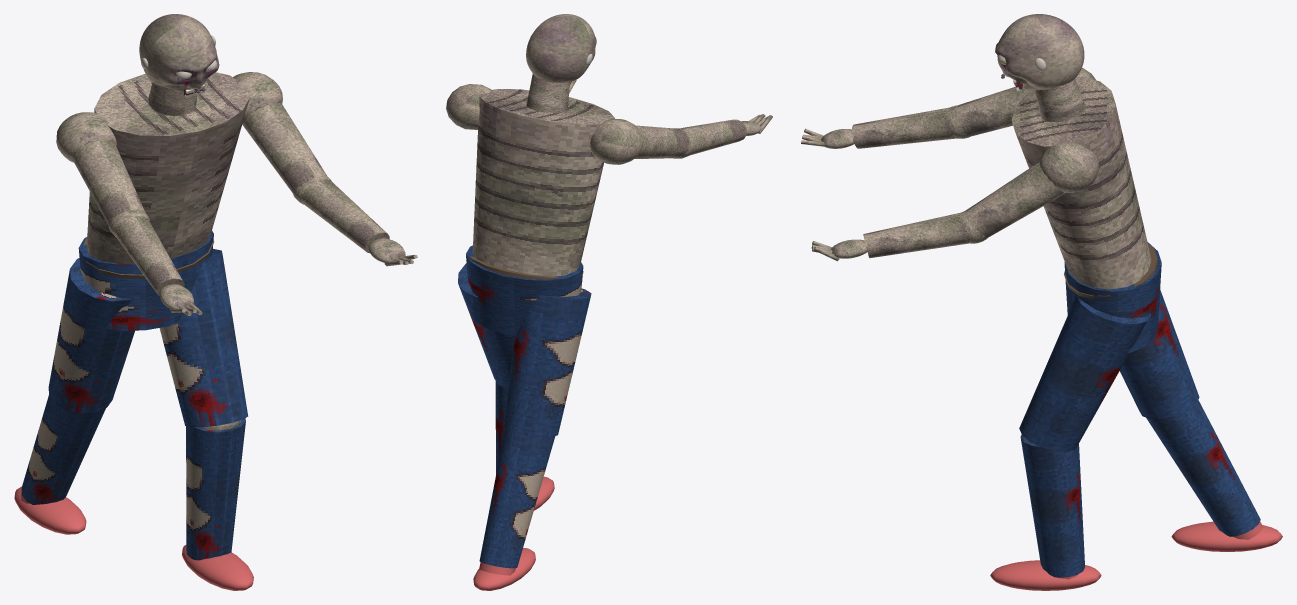
Rendered from Zombie_084.glb.
The picture shows the model from 3 angles, left to right: view 1: azimuth 30°, elevation 25°; view 2: azimuth 150°, elevation 25°; view 3: azimuth 270°, elevation 25°; orthographic projection. The views are drawn at different scales.
Parts seen in each view (by area): view 1: Zombie_084, object 16, object 10, object 3, object 11, object 4; view 2: Zombie_084, object 16, object 3; view 3: Zombie_084, object 16, object 10, object 3.
Part boxes in pixels (x1,y1,x2,y2): Zombie_084: (14, 72, 327, 590); object 16: (139, 14, 219, 92); object 10: (301, 178, 389, 253); object 3: (113, 215, 184, 295); object 11: (368, 238, 405, 262); object 4: (159, 284, 193, 309); Zombie_084: (446, 73, 690, 590); object 16: (526, 14, 596, 82); object 3: (681, 119, 746, 155); Zombie_084: (955, 68, 1282, 590); object 16: (995, 14, 1084, 91); object 10: (863, 212, 969, 258); object 3: (852, 107, 955, 148).
Size of the model in its own units: 0.7358 by 1.65 by 1.31.
Materials: 15 (5 with a texture image).
